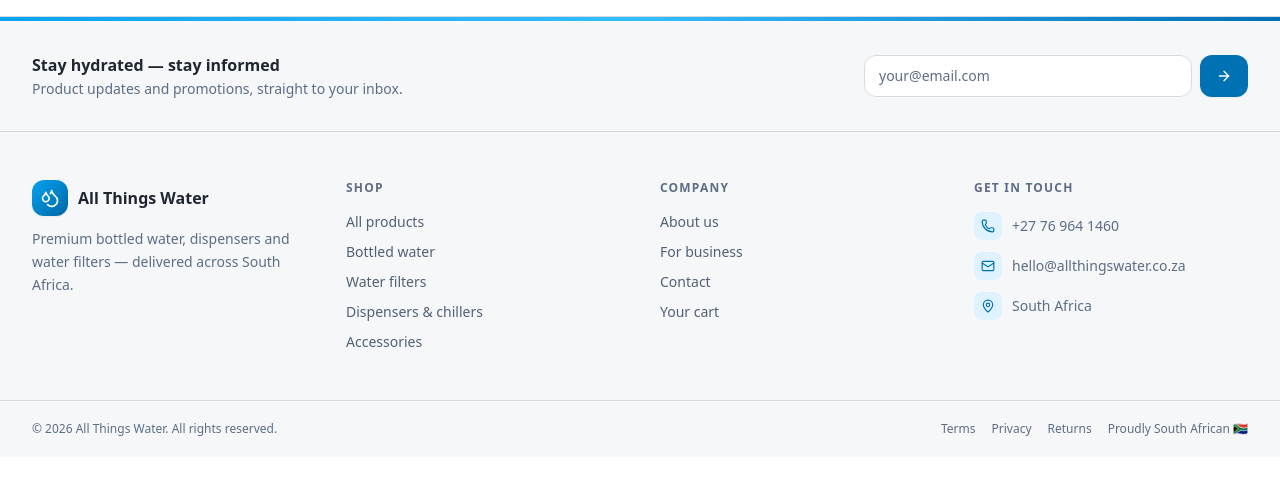
Scenario: Footer › shows an unavailable message instead of false success when no endpoint is configured
Type "jane@example.com" into the field named "email address". click: (1028, 76)
box: [864,55,1192,97]
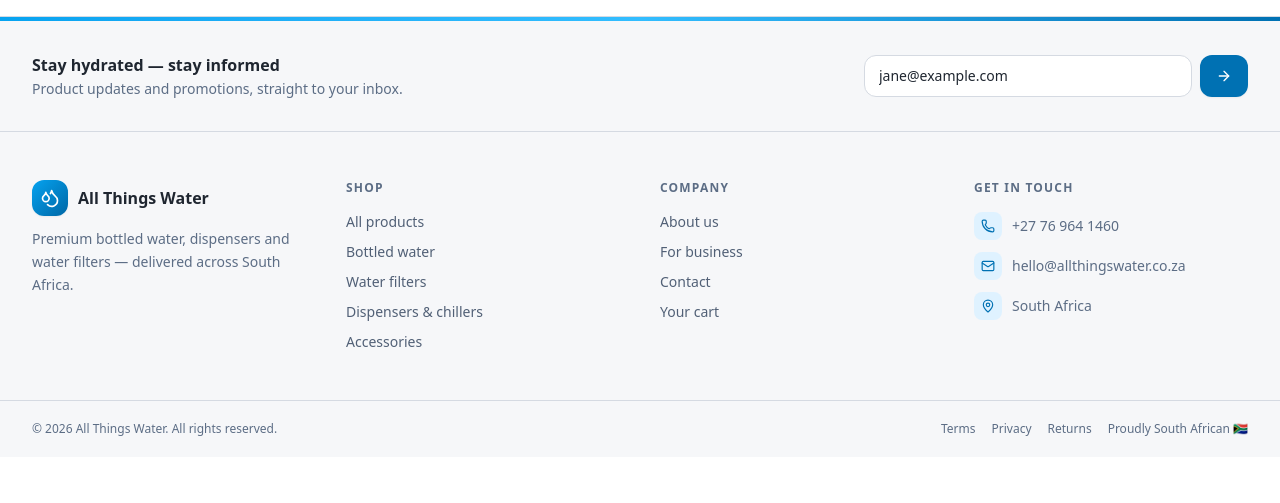
Click the button named "subscribe to newsletter". click: click(1224, 76)
box: [1200,55,1248,97]
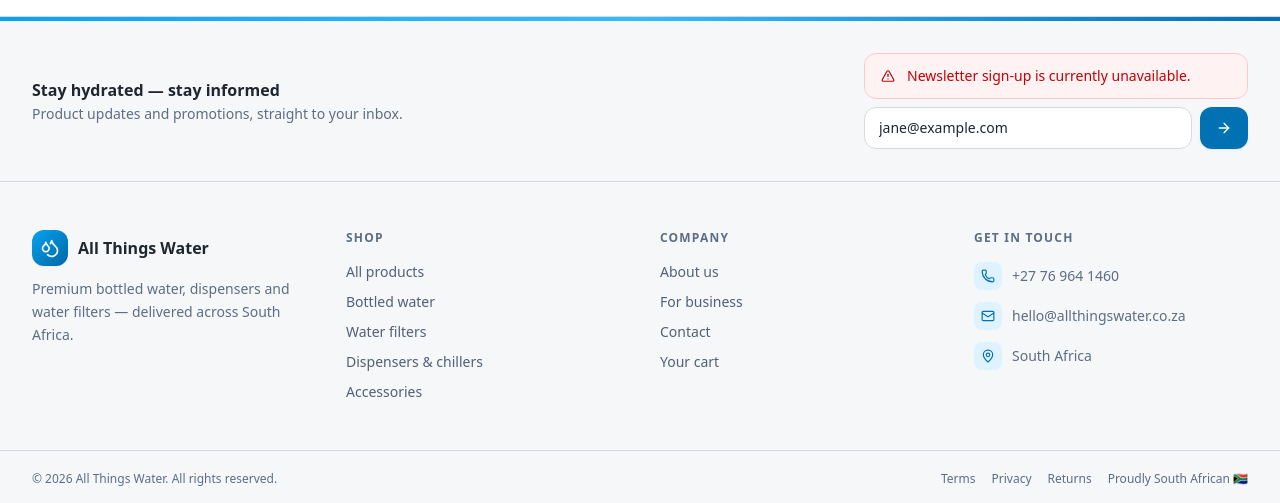
Expected: the message "Newsletter sign-up is currently unavailable." is shown, [864,53,1248,99]
